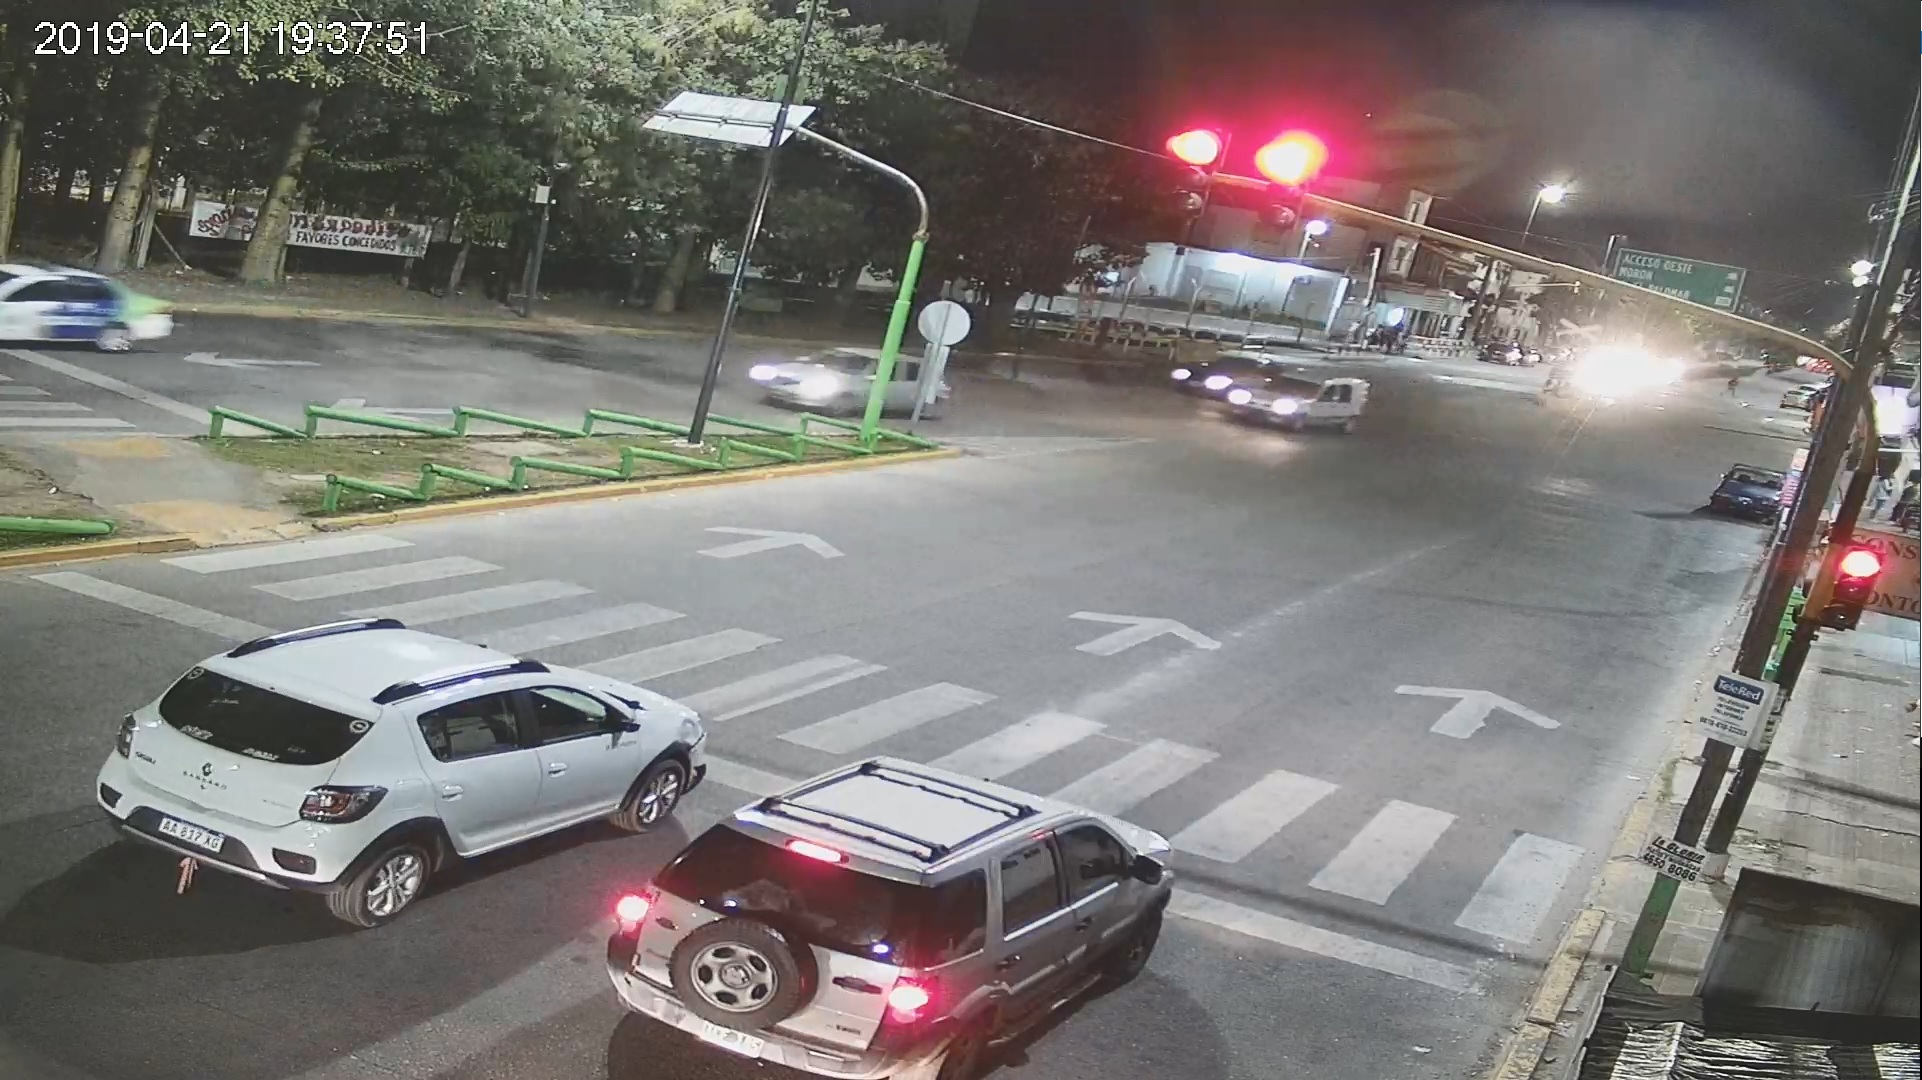car: (84, 614, 717, 937), (597, 755, 1176, 1080), (748, 330, 948, 420), (1230, 360, 1374, 441), (1706, 448, 1787, 529)
police car: (1, 264, 186, 354)
